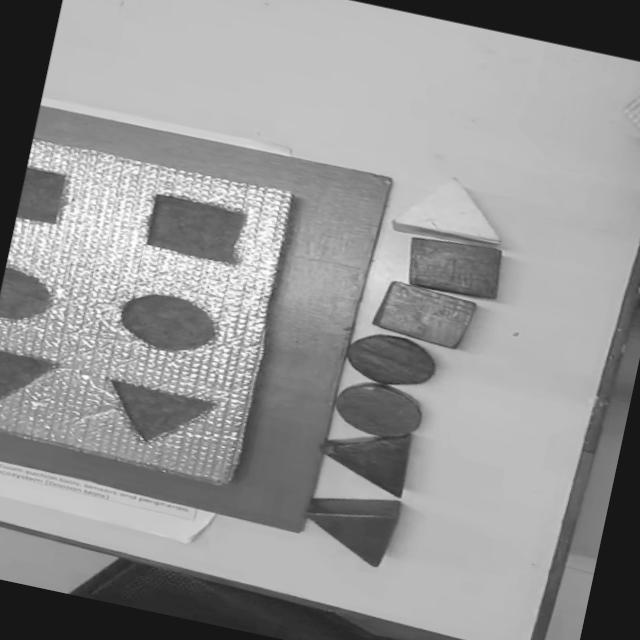bcircle: (342, 326, 442, 395), (328, 375, 428, 444)
btriangle: (400, 230, 507, 304), (316, 418, 414, 498)
mtcircle: (111, 285, 222, 360), (0, 266, 58, 329)
mtcube: (140, 191, 249, 268), (15, 167, 72, 230)
mttriangle: (96, 376, 219, 456), (0, 345, 62, 419)
rtriangle: (296, 481, 404, 570), (371, 276, 478, 352)
wb: (0, 134, 302, 488)
ytriangle: (391, 168, 511, 252)
